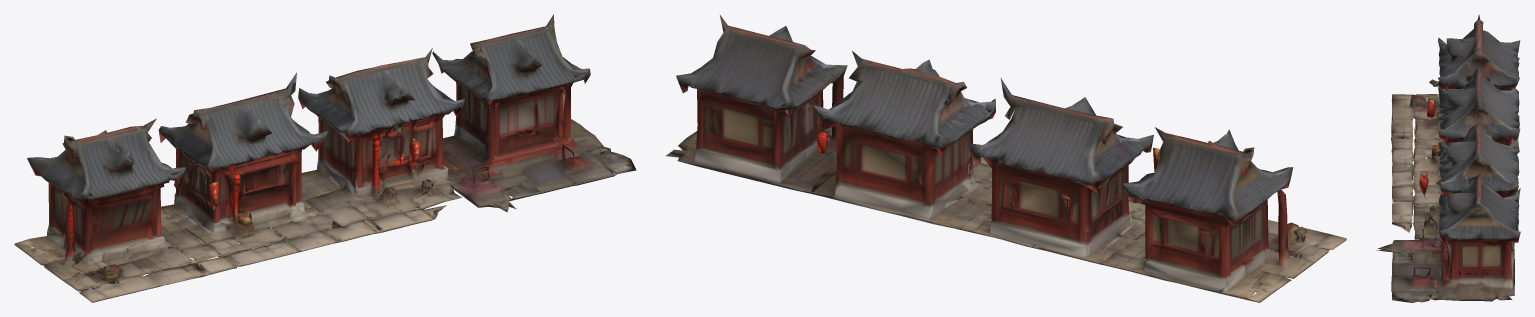
The model's file is Ancient_wuxia_town_wi_0707194824_texture.glb.
3 views of the same model, side by side, from view 1: azimuth 30°, elevation 25°; view 2: azimuth 150°, elevation 25°; view 3: azimuth 270°, elevation 25° (orthographic). The views are drawn at different scales.
Size of the model in its own units: 2 by 0.4412 by 0.592.
Materials: 1 (1 with a texture image).
